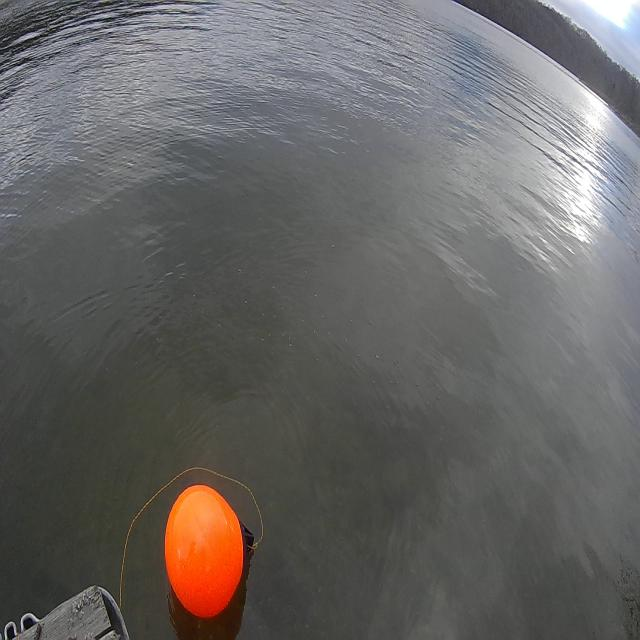Buoy: (162, 480, 248, 622)
